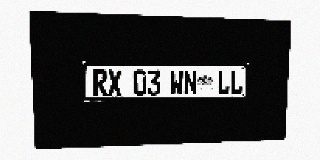0: (133, 70, 147, 95)
3: (147, 70, 161, 95)
L: (217, 70, 230, 95), (230, 70, 243, 95)
N: (184, 70, 197, 95)
R: (93, 69, 107, 96)
W: (170, 70, 183, 95)
X: (107, 70, 122, 96)
